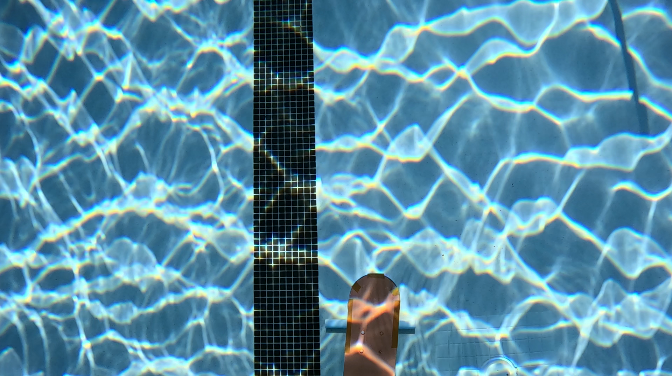pathmarker: (344, 272, 400, 374)
